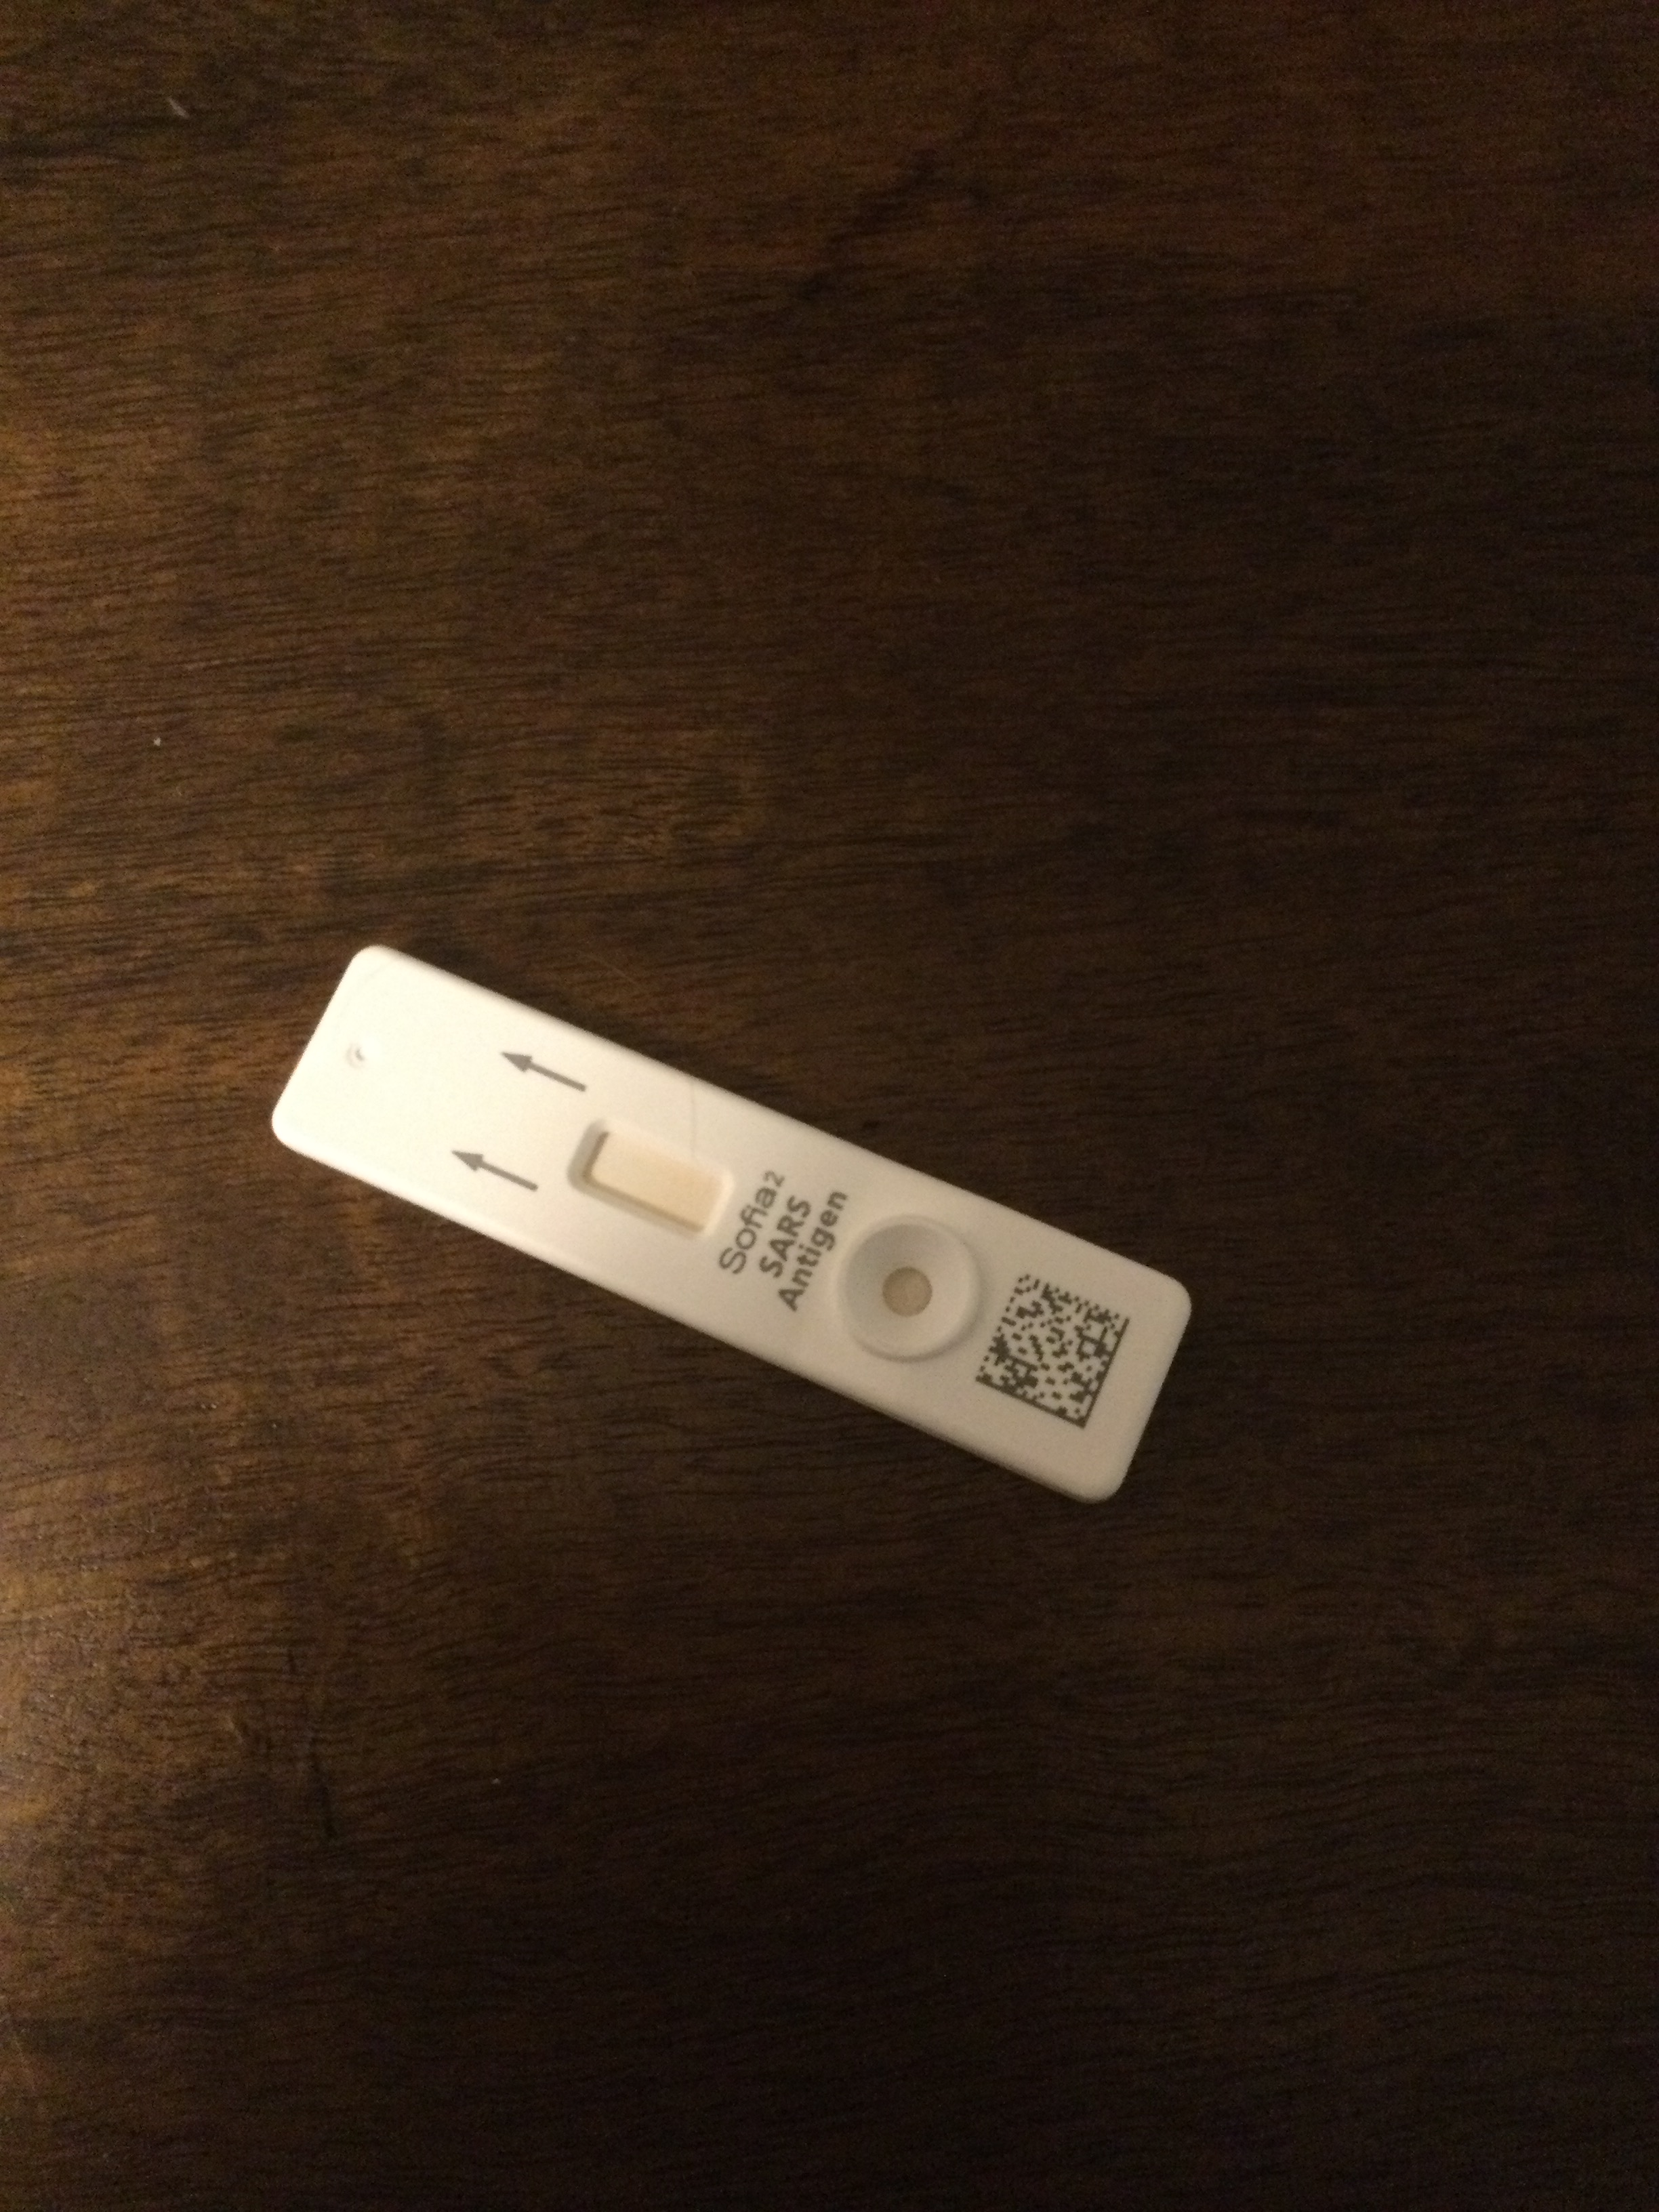quidel: (260, 934, 1204, 1515)
